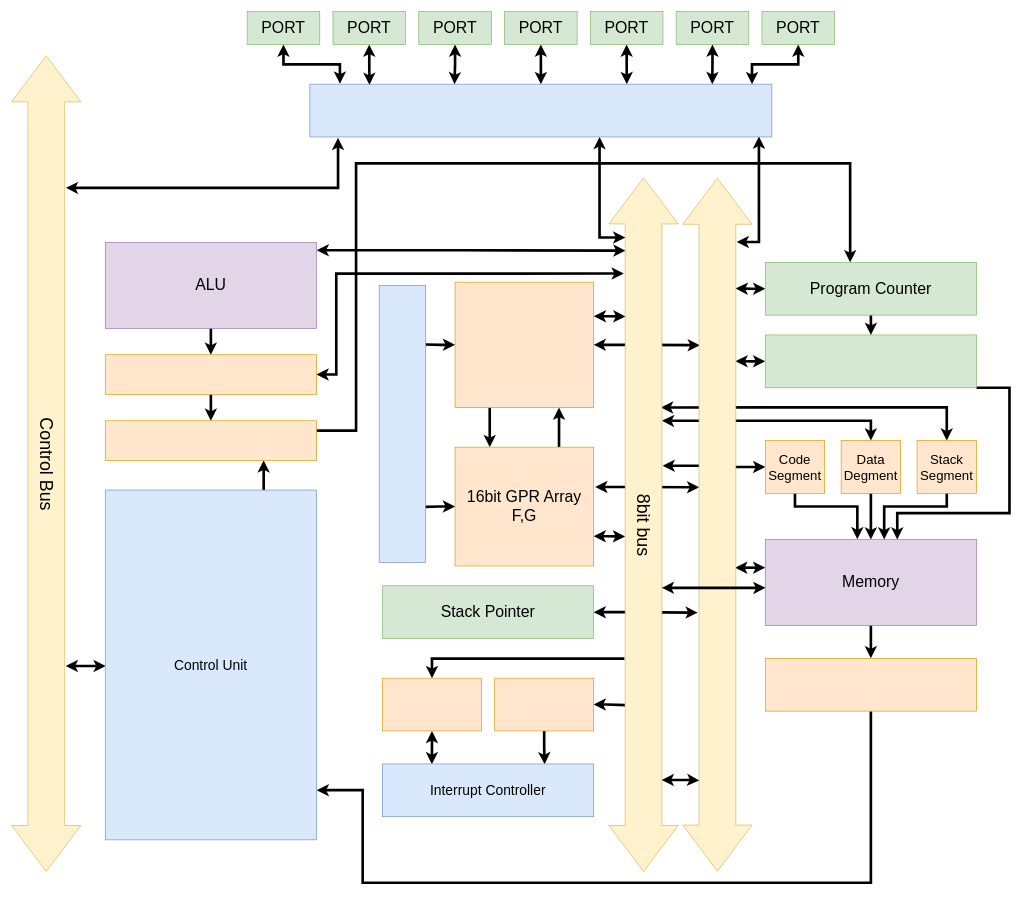
Some shapes in this 1028 by 901 pixel diagram are drawn without their labels. The centre of each missing label's shape, as x and y in pixels:
"16bit bus" goes at point (717, 524).
"8bit GPR Array A,C,D,E" goes at point (524, 344).
"Conditional Jump Logic" goes at point (210, 440).
"Flags Register" goes at point (210, 374).
"Input / Output Controller (I/O)" goes at point (540, 110).
"Instruction Register" goes at point (870, 684).
"Interrupt Mask Register" goes at point (544, 704).
"Memory Address Register" goes at point (870, 361).
"Register Array's Controller" goes at point (402, 424).
"Timer Interrupt Register" goes at point (431, 704).
